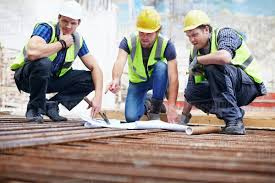helmet: (134, 6, 162, 34), (184, 11, 213, 31), (60, 1, 84, 21)
vest: (195, 43, 264, 96), (25, 28, 84, 75), (127, 46, 161, 81)
